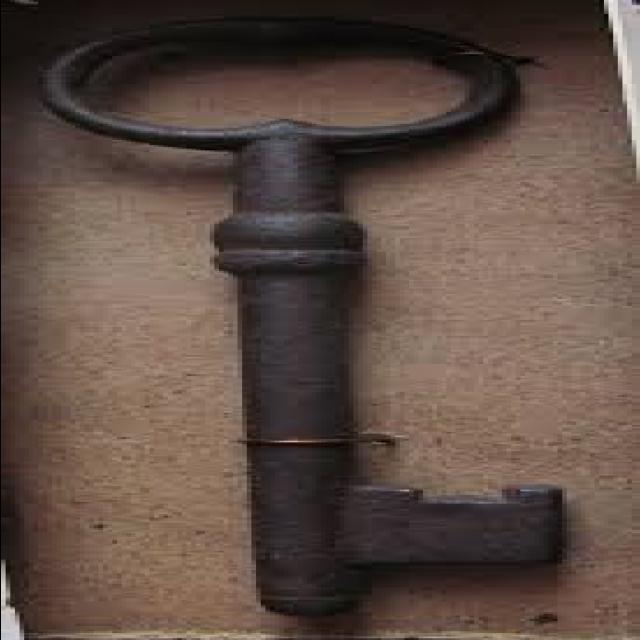key: (37, 9, 590, 629)
